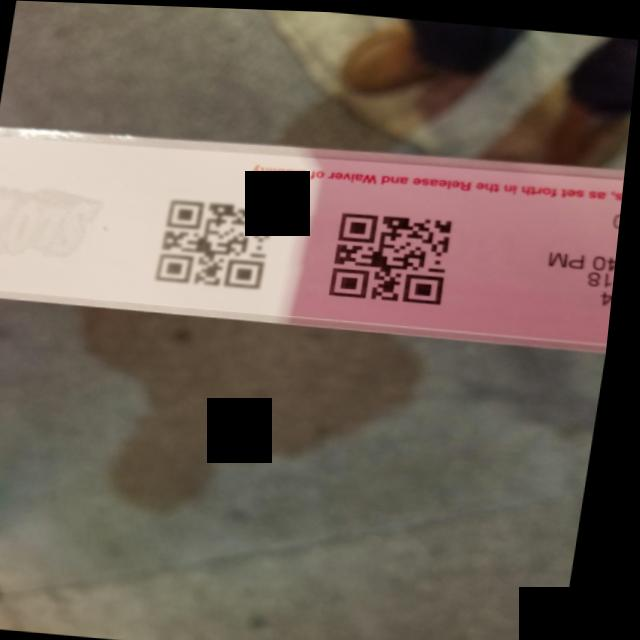QR_CODE: (314, 196, 476, 317), (151, 180, 298, 302)
